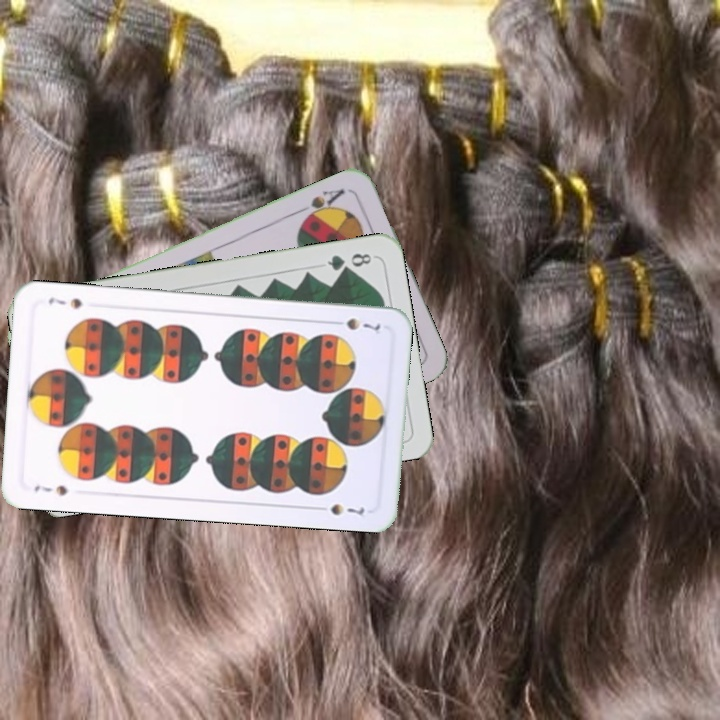G8: (323, 249, 374, 274)
S7: (327, 314, 384, 335), (30, 480, 70, 498)
SA: (294, 185, 347, 224)
